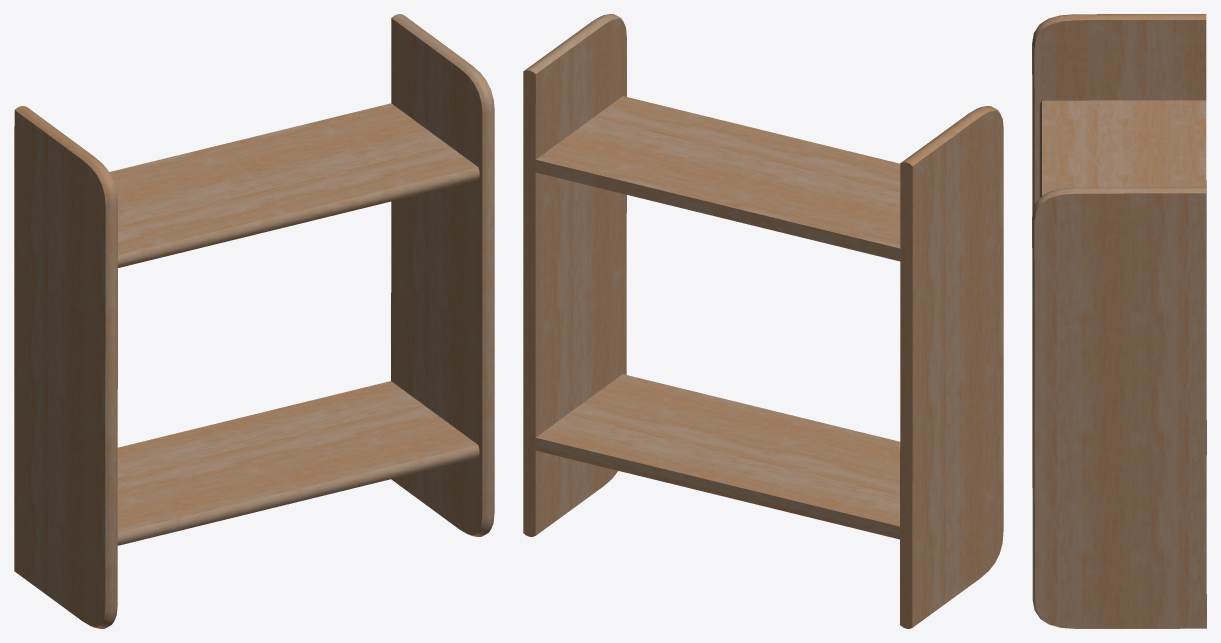
3 views of the same model, side by side, from view 1: azimuth 30°, elevation 25°; view 2: azimuth 150°, elevation 25°; view 3: azimuth 270°, elevation 25° (orthographic). The views are drawn at different scales.
Visible parts, largest first — view 1: WallShelf4_WallShelf4_0; view 2: WallShelf4_WallShelf4_0; view 3: WallShelf4_WallShelf4_0.
Part boxes in pixels (<box>): WallShelf4_WallShelf4_0: <box>14,14,494,628</box>; WallShelf4_WallShelf4_0: <box>523,14,1003,628</box>; WallShelf4_WallShelf4_0: <box>1032,14,1206,628</box>.
Size of the model in its own units: 5.62 by 6.44 by 2.32.
1 material, 1 textured.
